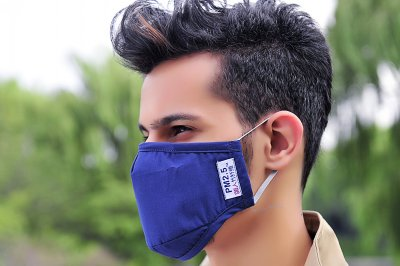face_mask: (134, 70, 255, 255)
